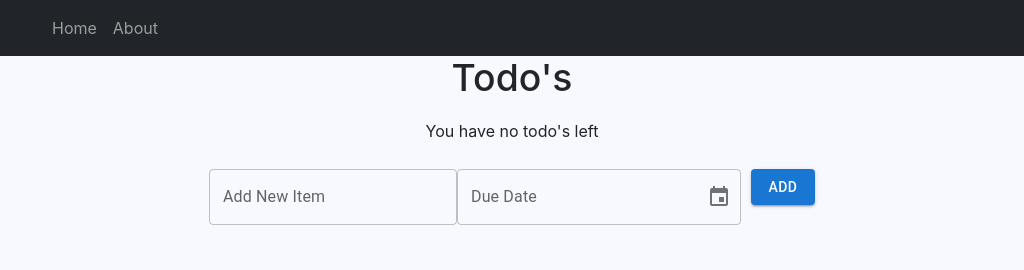
Test: test that task is deleted
The image size is (1024, 270).
Type "Task to Delete" into the field labelled "Add New Item". click: (333, 197)
box: [209,169,457,225]
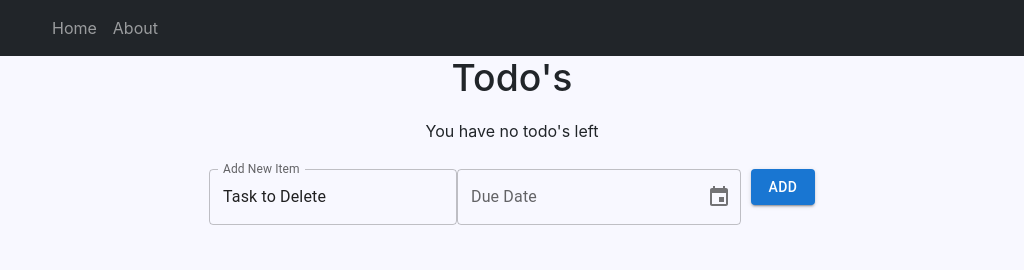
Type "06/30/2023" into the field with placeholder "mm/dd/yyyy". click: (574, 197)
box: [457,169,691,225]
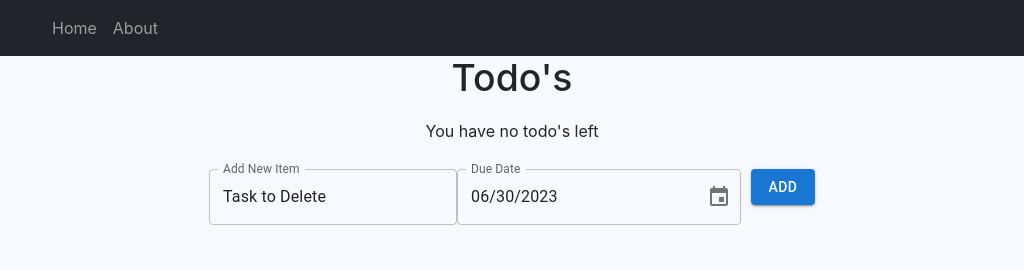
Click the button "Add". click: (783, 187)
box: [751,169,815,205]
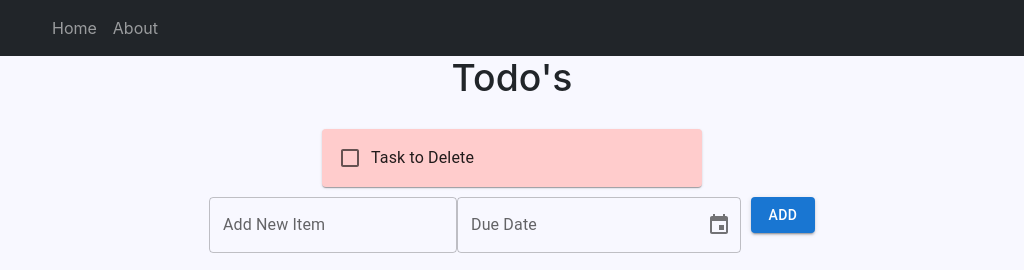
Click the checkbox. click: (350, 158)
box: [338,146,362,170]
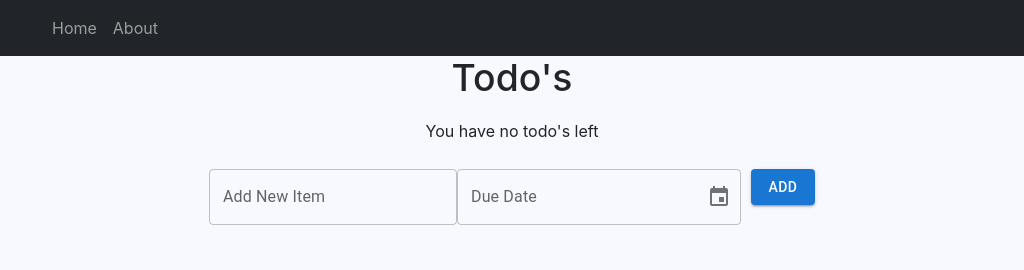
Expected: the link "Task to Delete" is gone
